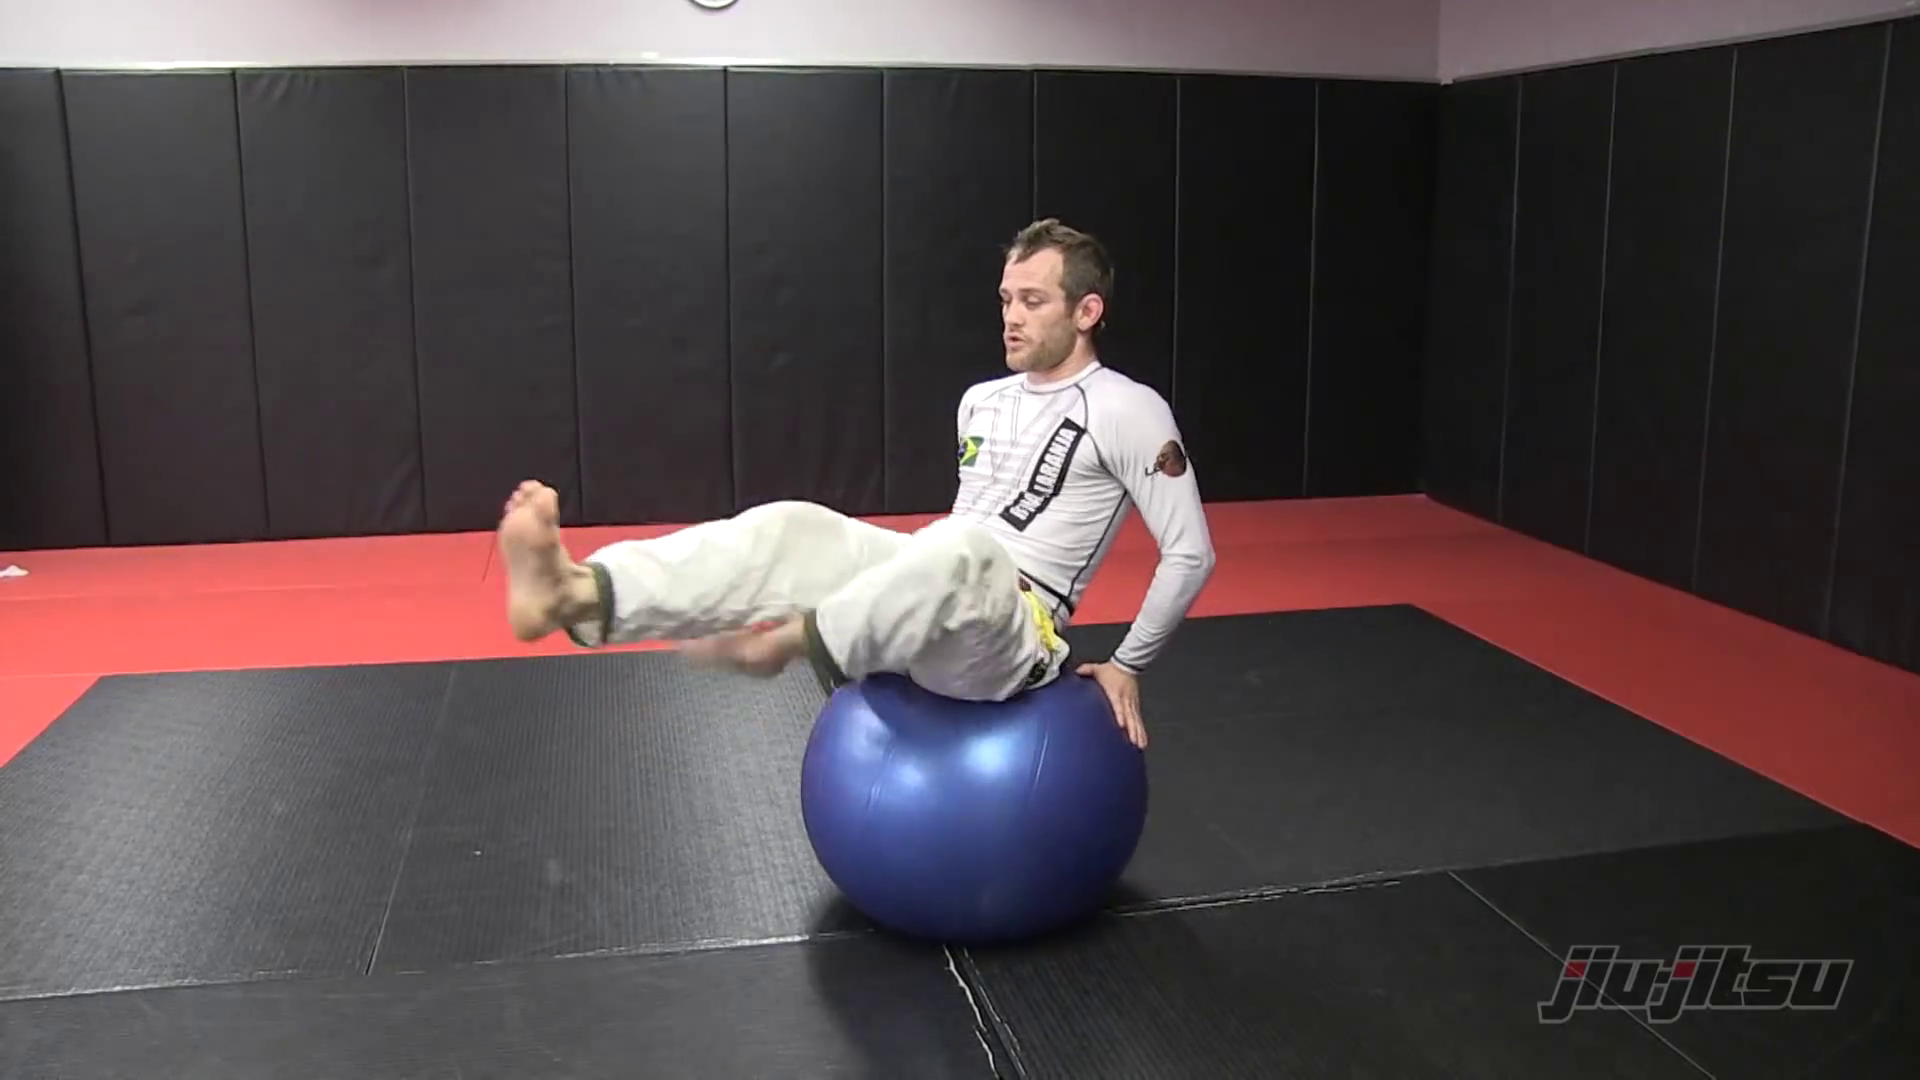yogaball: (787, 673, 1164, 957)
